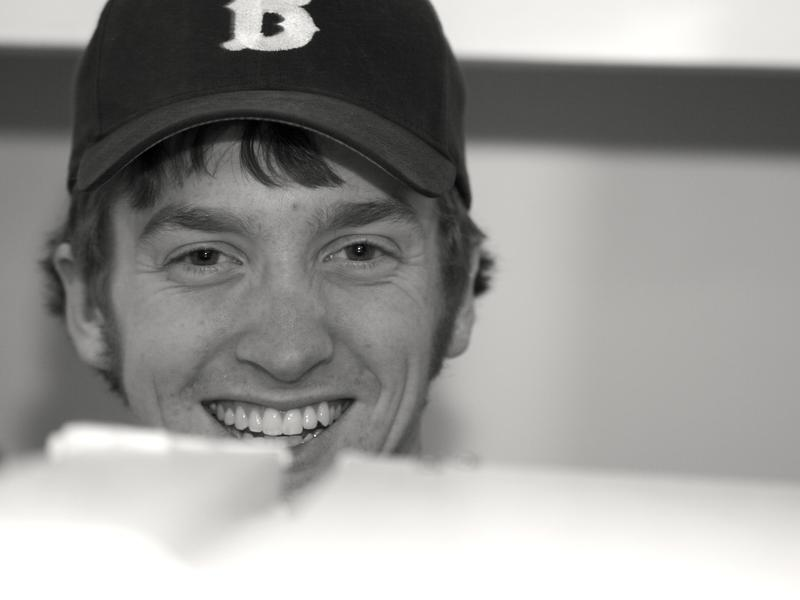person: (37, 1, 509, 455)
